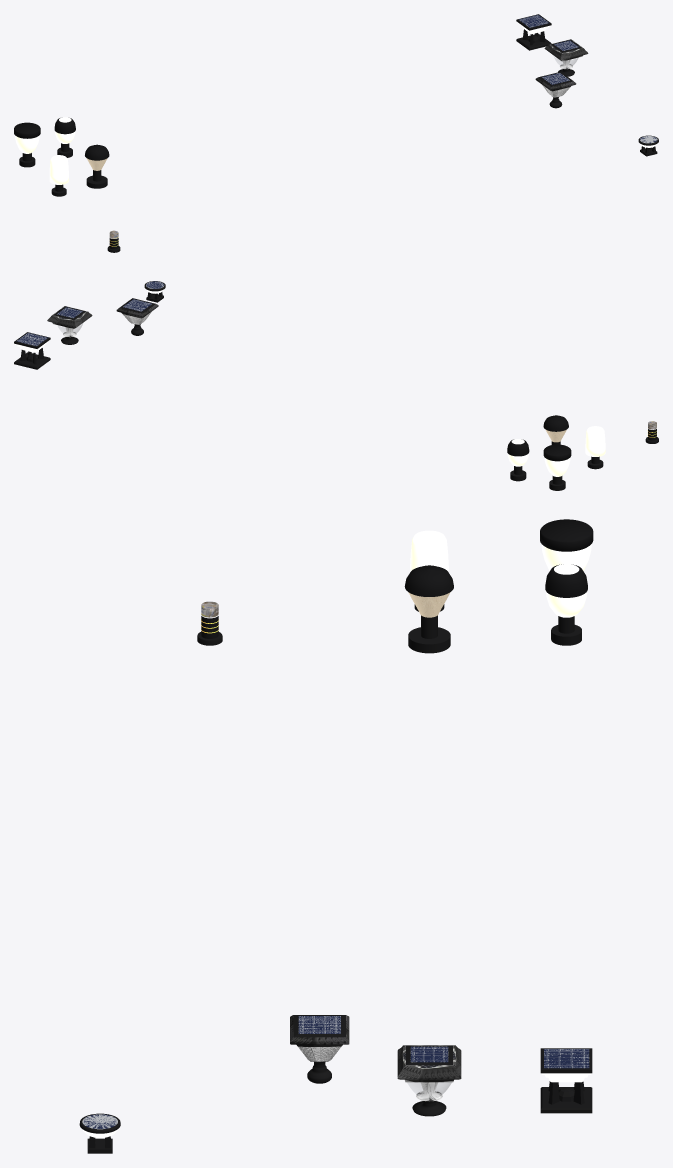
The model's file is gate_lights.glb.
3 renders of one model, top to bottom at view 1: azimuth 30°, elevation 25°; view 2: azimuth 150°, elevation 25°; view 3: azimuth 270°, elevation 25°, orthographic. The views are drawn at different scales.
Visible parts, largest first — view 1: pl_shade.002, sqc_cap.001, pl_cap; view 2: pl_shade.002, sqc_cap.001, pl_cap, pl_cap.002, pl_shade; view 3: pl_cap, sqc_cap.001, pl_shade.002, pl_cap.002, pl_cap.001, SQGATE_20W_plate, SQGATE_20W_panel.
Boxes of the visible parts, box(x1,y1,x2,y2) form: pl_shade.002: box(49, 155, 68, 184); sqc_cap.001: box(544, 39, 588, 61); pl_cap: box(14, 122, 40, 138); pl_shade.002: box(585, 426, 605, 456); sqc_cap.001: box(47, 306, 92, 328); pl_cap: box(543, 444, 571, 461); pl_cap.002: box(543, 415, 568, 431); pl_shade: box(544, 457, 570, 476); pl_cap: box(540, 519, 593, 551); sqc_cap.001: box(397, 1045, 461, 1082); pl_shade.002: box(410, 530, 448, 572); pl_cap.002: box(404, 565, 453, 596); pl_cap.001: box(545, 564, 587, 597); SQGATE_20W_plate: box(540, 1087, 592, 1113); SQGATE_20W_panel: box(544, 1049, 589, 1068).
Bounding box in the file's own units: 8.93 × 1.01 × 3.74.
14 materials, 7 textured.
